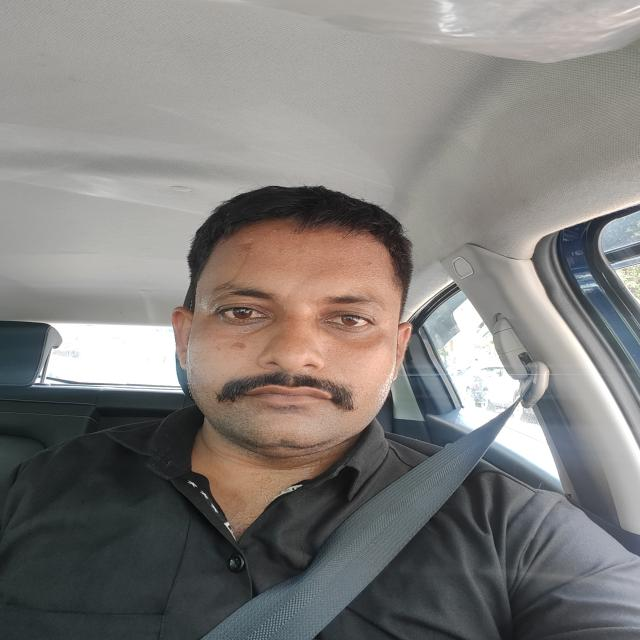seatbelt: (177, 364, 558, 640)
